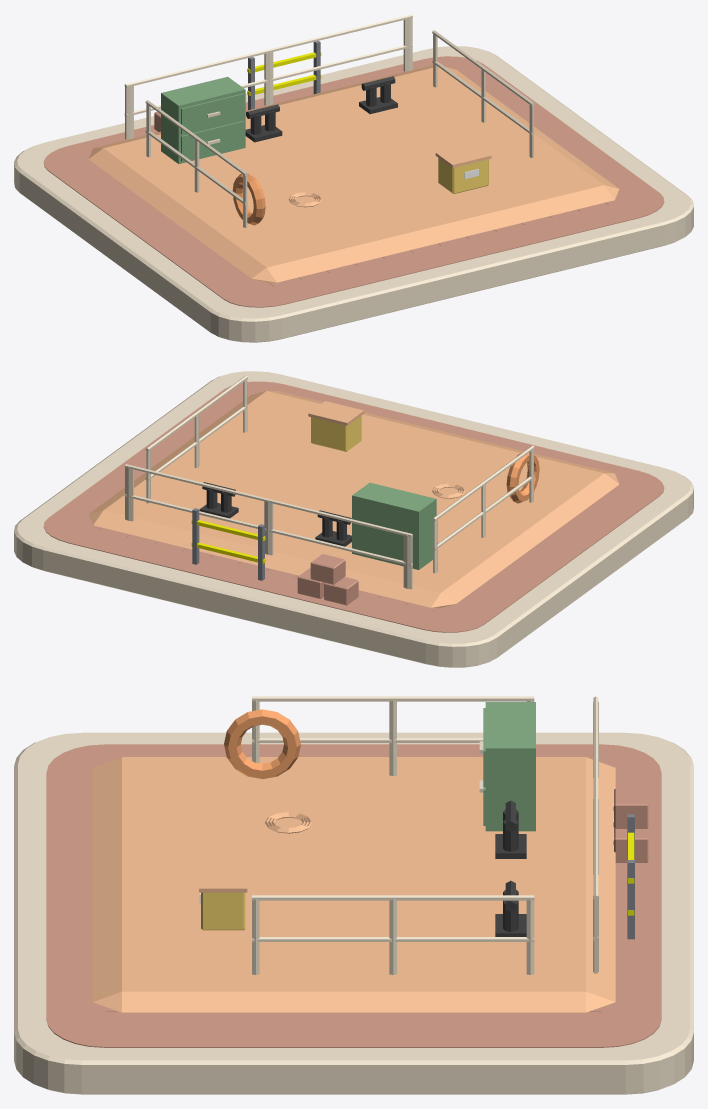
The model's file is room.fbx.
3 views of the same model, one above another, from view 1: azimuth 30°, elevation 25°; view 2: azimuth 150°, elevation 25°; view 3: azimuth 270°, elevation 25° (orthographic). The views are drawn at different scales.
Parts seen in each view (by area): view 1: Deck, COM-01 Rounded Base Direct, COM-02 Floor Surface, Cabinet, Box, Rail.005, Life ring, Lid, Rail.004, Rail.003, Rail.001, Rail.002 (+3 smaller); view 2: Deck, COM-01 Rounded Base Direct, COM-02 Floor Surface, Cabinet, Box, Rail.005, Rail.004, Life ring, Stacked case.002, Lid, Stacked case, Stacked case.001 (+7 smaller); view 3: Deck, COM-01 Rounded Base Direct, COM-02 Floor Surface, Cabinet, Life ring, Box, Rail.001, Rail.003, Lid, Rail.002, Stacked case.002, Rail.005 (+3 smaller).
Part boxes in pixels (bbox=[...]): Deck: bbox=[88, 65, 619, 282]; COM-01 Rounded Base Direct: bbox=[14, 46, 693, 342]; COM-02 Floor Surface: bbox=[43, 56, 664, 307]; Cabinet: bbox=[161, 76, 245, 163]; Box: bbox=[438, 158, 488, 193]; Rail.005: bbox=[124, 14, 412, 87]; Life ring: bbox=[232, 173, 265, 225]; Lid: bbox=[435, 143, 491, 167]; Rail.004: bbox=[124, 44, 412, 116]; Rail.003: bbox=[432, 30, 534, 106]; Rail.001: bbox=[145, 100, 247, 176]; Rail.002: bbox=[432, 60, 534, 135]; Deck: bbox=[88, 391, 619, 607]; COM-01 Rounded Base Direct: bbox=[14, 371, 693, 667]; COM-02 Floor Surface: bbox=[43, 381, 664, 632]; Cabinet: bbox=[352, 482, 436, 569]; Box: bbox=[311, 415, 361, 451]; Rail.005: bbox=[124, 464, 412, 537]; Rail.004: bbox=[124, 494, 412, 566]; Life ring: bbox=[506, 453, 539, 503]; Stacked case.002: bbox=[310, 554, 345, 584]; Lid: bbox=[308, 401, 364, 425]; Stacked case: bbox=[324, 577, 358, 605]; Stacked case.001: bbox=[297, 568, 324, 598]; Deck: bbox=[92, 757, 615, 1012]; COM-01 Rounded Base Direct: bbox=[14, 732, 693, 1094]; COM-02 Floor Surface: bbox=[46, 744, 661, 1047]; Cabinet: bbox=[479, 702, 535, 831]; Life ring: bbox=[224, 709, 300, 779]; Box: bbox=[201, 892, 245, 930]; Rail.001: bbox=[252, 696, 534, 701]; Rail.003: bbox=[252, 895, 534, 900]; Lid: bbox=[199, 861, 247, 892]; Rail.002: bbox=[252, 937, 534, 941]; Stacked case.002: bbox=[614, 788, 648, 828]; Rail.005: bbox=[593, 696, 598, 900].
Bounding box in the file's own units: 600 × 118 × 520.
